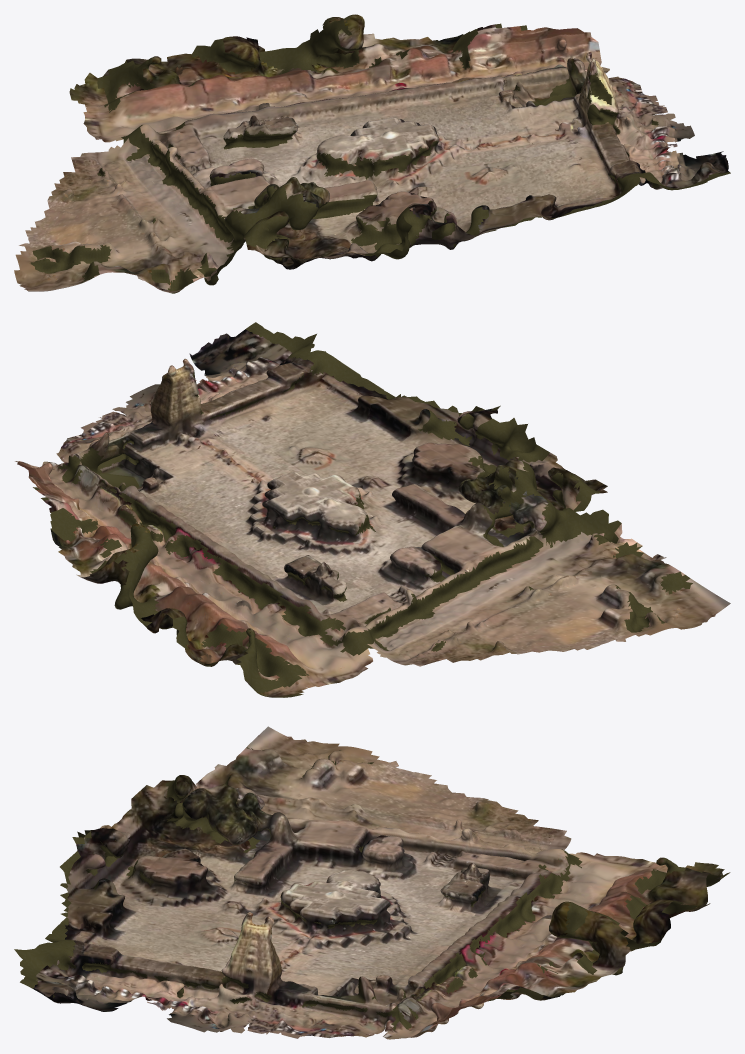
File: belur_complex.gltf
3 renders of one model, top to bottom at view 1: azimuth 30°, elevation 25°; view 2: azimuth 150°, elevation 25°; view 3: azimuth 270°, elevation 25°, orthographic. The views are drawn at different scales.
Visible parts, largest first — view 1: Object_3, Object_4, Object_2, Object_5, Object_6, Object_7, Object_8, Object_9; view 2: Object_3, Object_4, Object_2, Object_5, Object_6, Object_7, Object_8; view 3: Object_3, Object_4, Object_2, Object_5, Object_6, Object_7.
Boxes of the visible parts, x1=… form: Object_3: x1=14, y1=24, x2=728, y2=292; Object_4: x1=62, y1=14, x2=692, y2=272; Object_2: x1=15, y1=15, x2=730, y2=293; Object_5: x1=59, y1=17, x2=725, y2=281; Object_6: x1=24, y1=15, x2=695, y2=291; Object_7: x1=19, y1=44, x2=692, y2=282; Object_8: x1=47, y1=19, x2=725, y2=287; Object_9: x1=43, y1=53, x2=711, y2=279; Object_3: x1=15, y1=329, x2=715, y2=697; Object_4: x1=25, y1=364, x2=661, y2=666; Object_2: x1=33, y1=322, x2=730, y2=692; Object_5: x1=64, y1=345, x2=663, y2=664; Object_6: x1=59, y1=356, x2=720, y2=668; Object_7: x1=52, y1=357, x2=685, y2=676; Object_8: x1=67, y1=344, x2=682, y2=684; Object_3: x1=33, y1=737, x2=730, y2=1038; Object_4: x1=65, y1=761, x2=710, y2=1039; Object_2: x1=14, y1=726, x2=721, y2=1033; Object_5: x1=65, y1=750, x2=695, y2=1027; Object_6: x1=60, y1=733, x2=668, y2=1031; Object_7: x1=68, y1=751, x2=690, y2=1035.
Size of the model in its own units: 18.11 by 3.21 by 15.82.
Materials: 6 (6 with a texture image).
